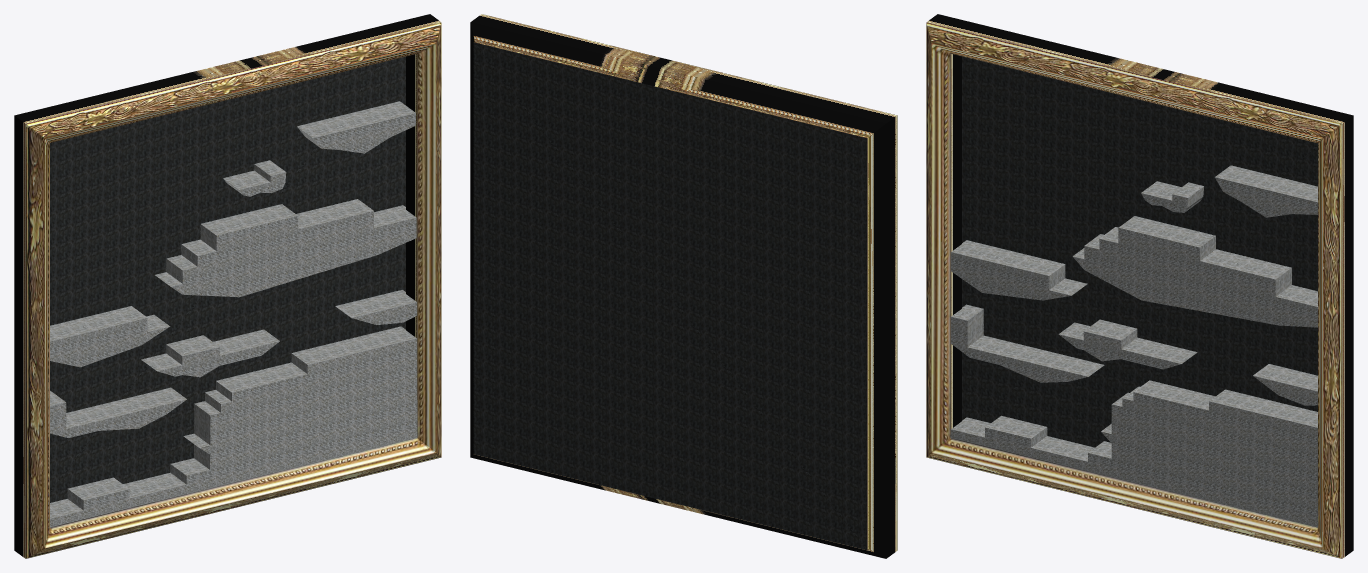
Rendered from Castle_level_3d (new).FBX.
The picture shows the model from 3 angles, left to right: view 1: azimuth 30°, elevation 25°; view 2: azimuth 150°, elevation 25°; view 3: azimuth 330°, elevation 25°; orthographic projection.
Parts seen in each view (by area): view 1: Plane001, Level, Lijst_castle; view 2: Plane001, Lijst_castle; view 3: Plane001, Level, Lijst_castle.
Boxes of the visible parts, x1,y1,x2,y2 form: Plane001: [50, 56, 405, 502]; Level: [50, 101, 417, 527]; Lijst_castle: [14, 14, 441, 558]; Plane001: [473, 42, 867, 549]; Lijst_castle: [470, 14, 897, 558]; Plane001: [962, 56, 1317, 447]; Level: [950, 165, 1317, 527]; Lijst_castle: [926, 14, 1353, 558].
Size of the model in its own units: 2419 by 2419 by 256.
